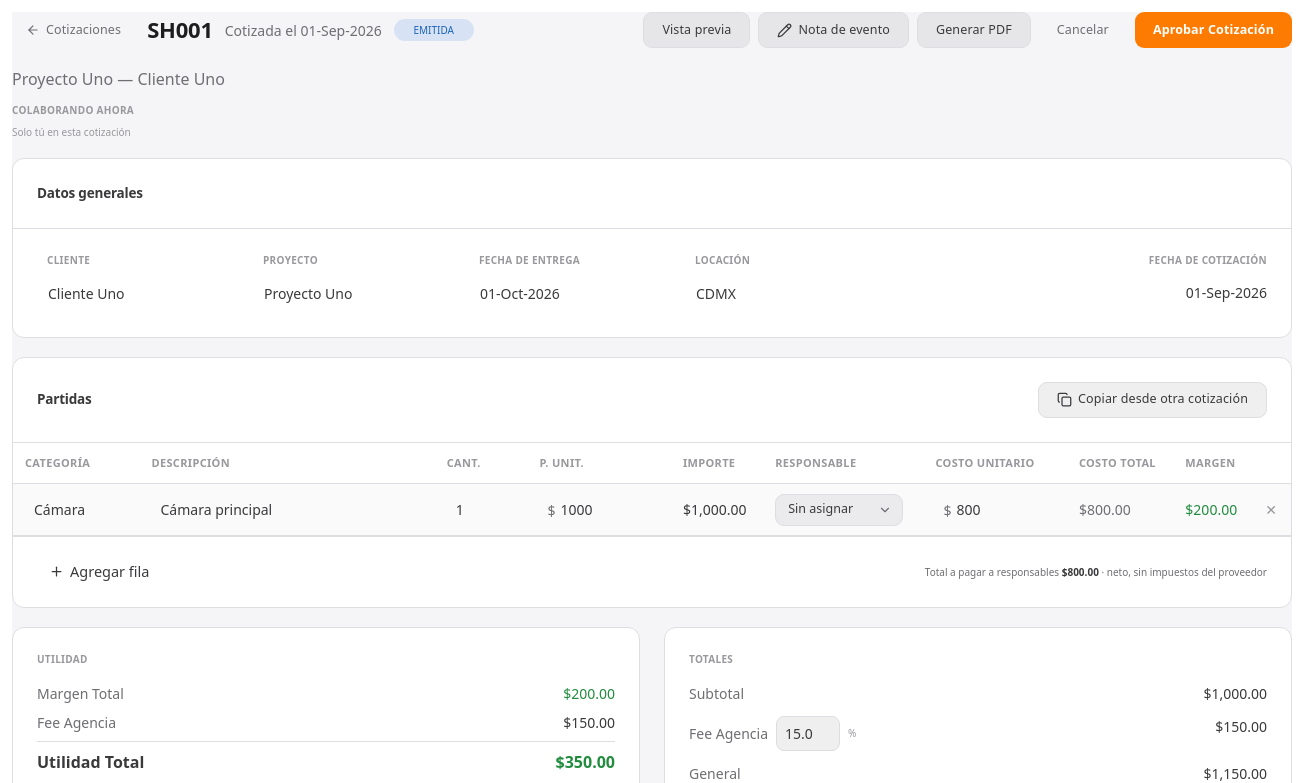
it: page.tsx -- conflicto atómico multi-campo del autofill de producto (3D-5) › "mantener" reintenta el PATCH completo con los 4 campos y la base ya refrescada
Replace the text in the 5th field named "items.0.descripcion" with "Producto" at (280, 510), box [152,492,408,527]
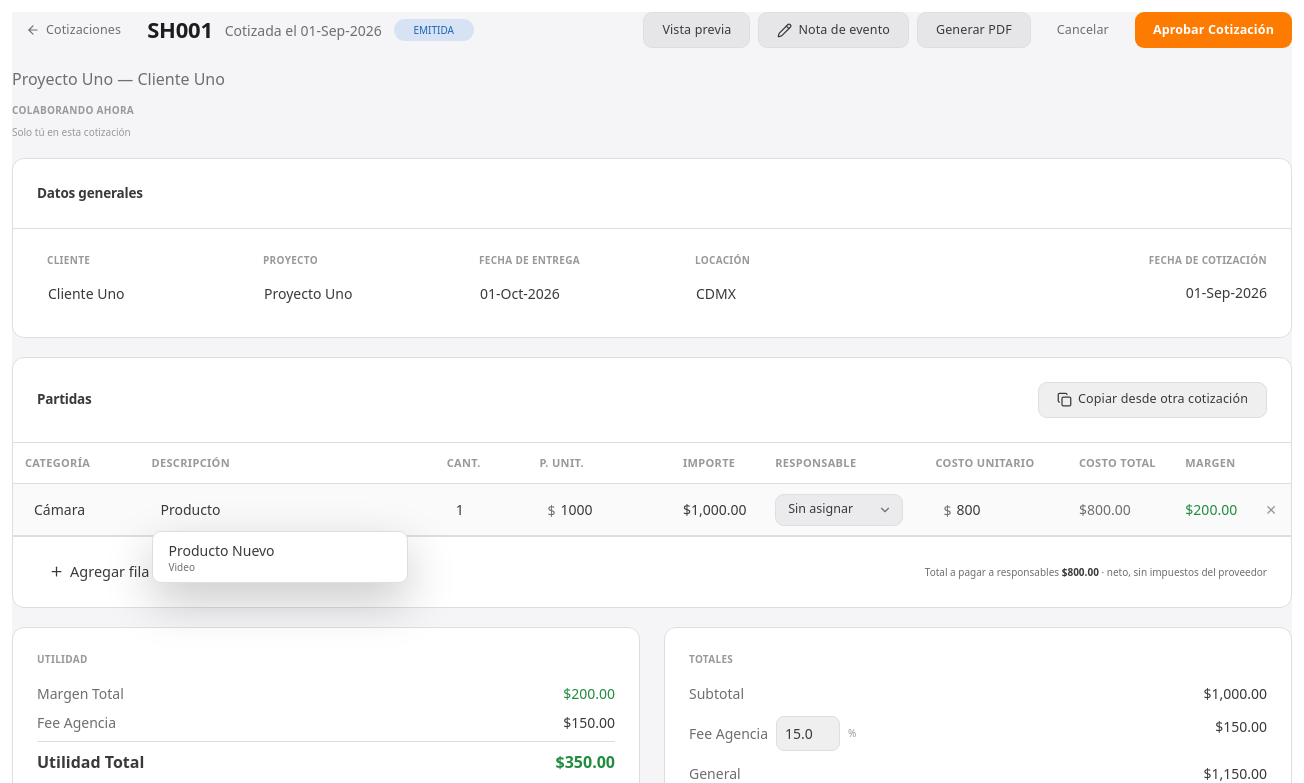
Press the mouse on the text "Producto Nuevo" at (222, 551), box [168,541,275,560]
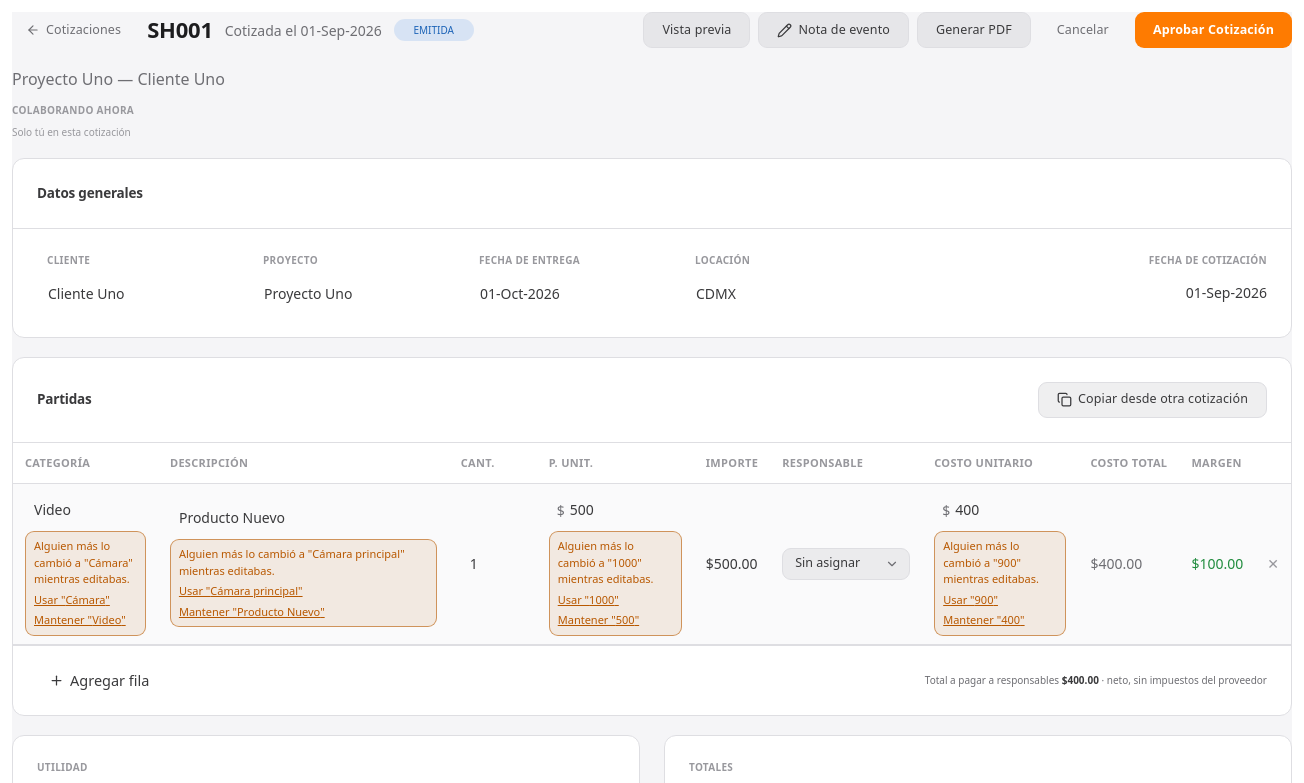
Click the button "Mantener \"400\"" at (984, 620), box [943,612,1025,629]
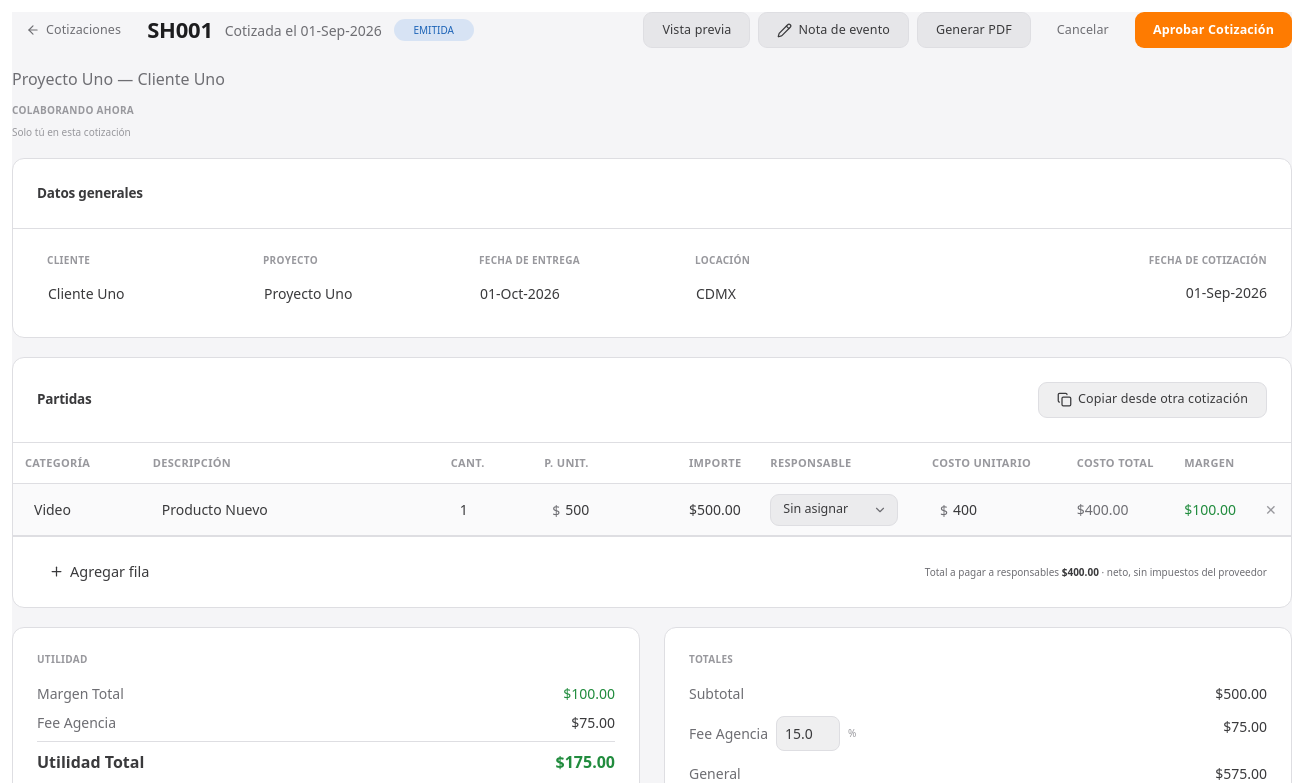
Expected: the button "Mantener \"400\"" is gone
